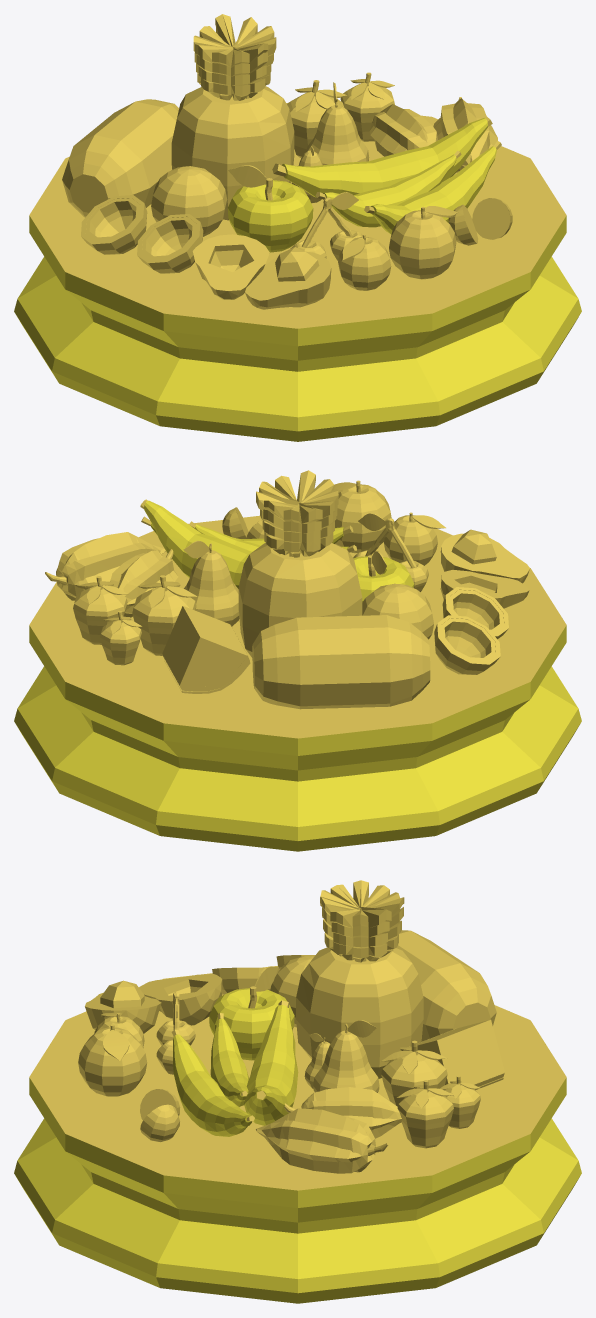
File: Low_Poly_Fruits.glb
3 renders of one model, top to bottom at view 1: azimuth 30°, elevation 25°; view 2: azimuth 150°, elevation 25°; view 3: azimuth 270°, elevation 25°, orthographic.
Visible parts, largest first — view 1: unnamed (×21); view 2: unnamed (×22); view 3: unnamed (×21).
Part boxes in pixels (<box>): unnamed (×21): <box>14,14,581,441</box>; unnamed (×22): <box>14,470,581,851</box>; unnamed (×21): <box>14,880,581,1303</box>.
Size of the model in its own units: 13.12 by 7.11 by 13.12.
